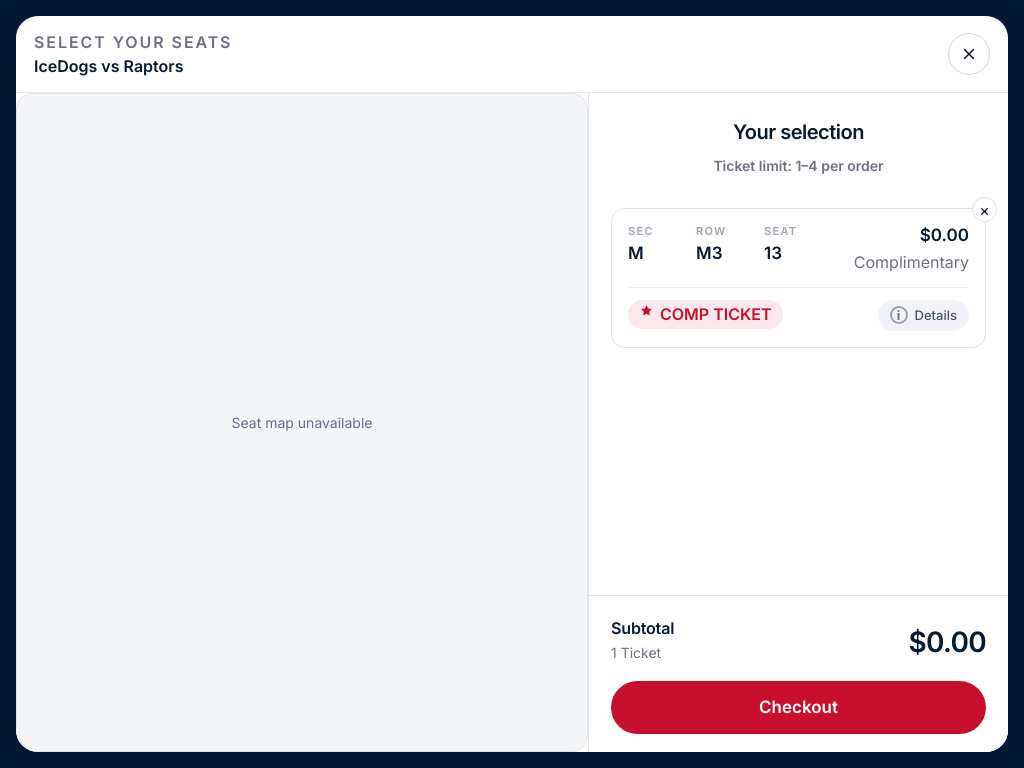
SeatMapSelectionOverlay map readiness › lists a complimentary ticket at $0.00 instead of the fee-inclusive price
The width and height of the screenshot is (1024, 768).
expect the text "$0.00" is shown 2 times: met, box left=920, top=225, right=969, bottom=245; left=908, top=620, right=986, bottom=662
expect the text "Complimentary" is shown: met, box left=854, top=252, right=969, bottom=272
Step 1. Click the button "i Details" → (923, 315), box left=878, top=300, right=969, bottom=331
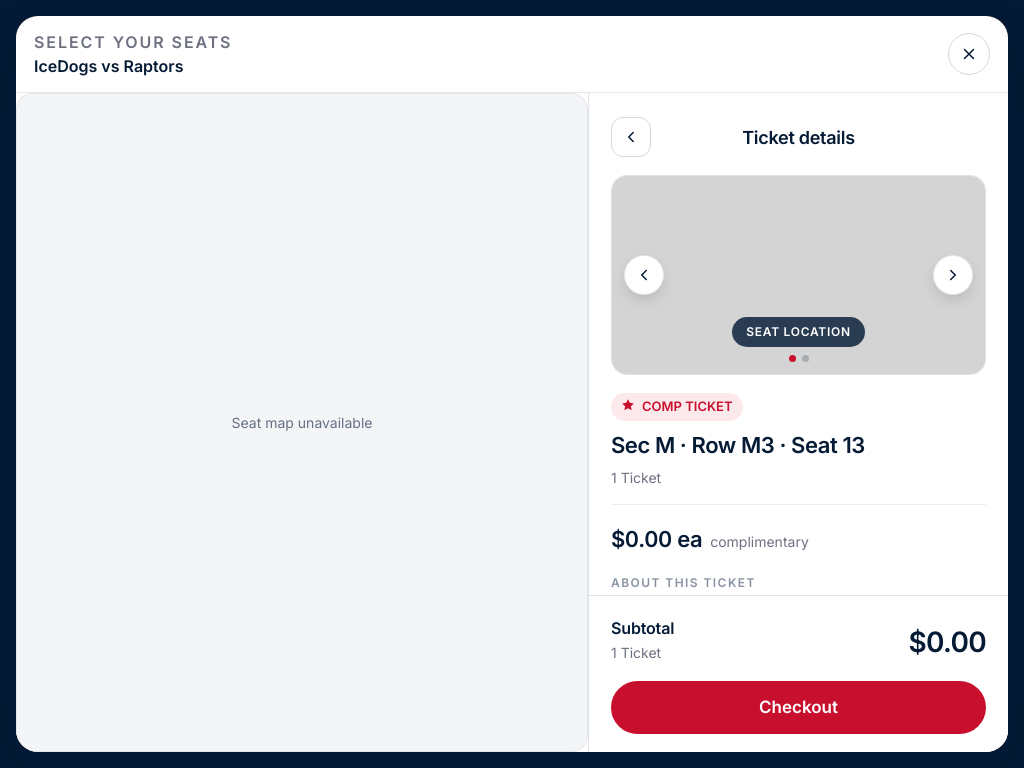
expect the text "complimentary" is shown: met, box left=710, top=530, right=809, bottom=552
expect the text "$0.00 ea" is shown: met, box left=611, top=522, right=702, bottom=556
